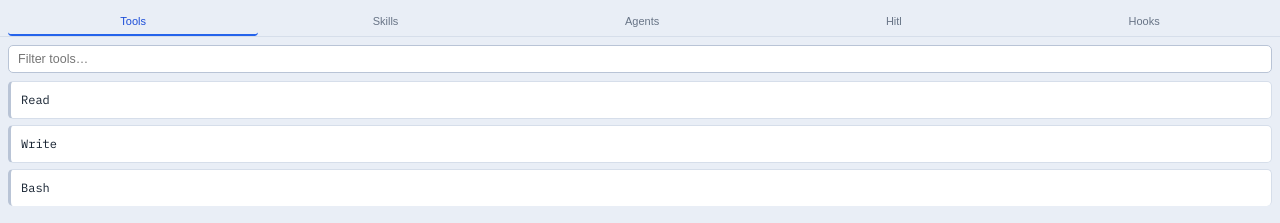
Test: Palette — loaded-framework source (M08.6.E) › loaded_framework_agents_appear_in_the_agents_tab
Click the tab with test id "palette-tab-agents": coordinates (642, 22) [513,8,772,36]
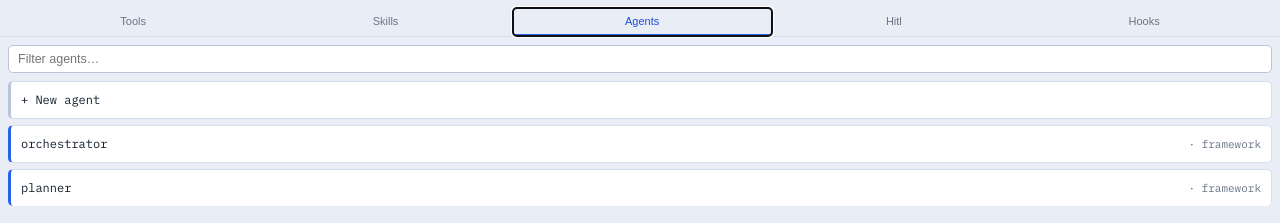
Result: the list item with test id "palette-item-orchestrator" is shown at [8,125,1272,163]
Result: the list item with test id "palette-item-planner" is shown at [8,169,1272,206]
